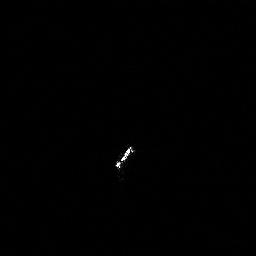ship: (115, 143, 136, 172)
